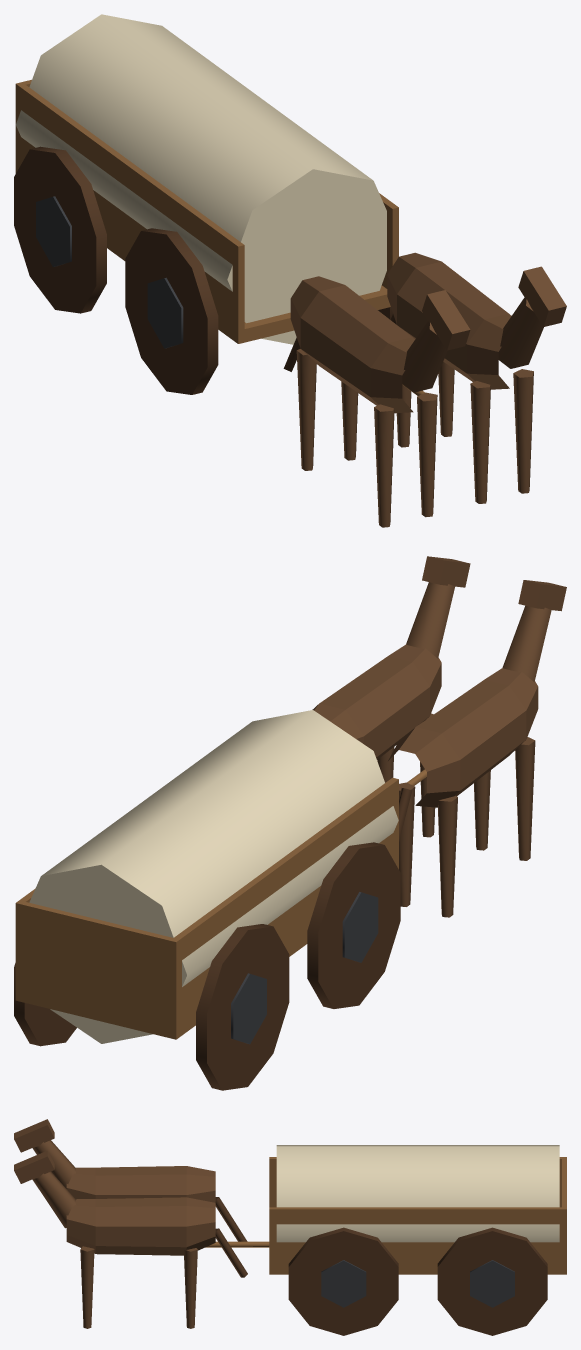
The model's file is veh_ground_wagon_a03.glb.
3 renders of one model, top to bottom at view 1: azimuth 30°, elevation 25°; view 2: azimuth 150°, elevation 25°; view 3: azimuth 270°, elevation 25°, orthographic. The views are drawn at different scales.
Parts seen in each view (by area): view 1: body, animal_0, animal_1, wheel_2, wheel_0; view 2: body, animal_0, animal_1, wheel_0, wheel_2, wheel_1; view 3: body, animal_1, wheel_1, wheel_3, animal_0.
Part boxes in pixels (<box>): body: <box>15,14,424,395</box>; animal_0: <box>283,276,470,527</box>; animal_1: <box>387,252,566,503</box>; wheel_2: <box>125,228,218,394</box>; wheel_0: <box>14,146,106,313</box>; body: <box>15,710,426,1043</box>; animal_0: <box>388,580,566,917</box>; animal_1: <box>312,556,470,837</box>; wheel_0: <box>196,924,289,1090</box>; wheel_2: <box>307,842,400,1008</box>; wheel_1: <box>14,963,76,1046</box>; body: <box>205,1145,566,1274</box>; animal_1: <box>14,1150,247,1328</box>; wheel_1: <box>437,1227,547,1335</box>; wheel_3: <box>288,1227,398,1335</box>; animal_0: <box>14,1119,247,1241</box>.
Size of what is drawn, in the model's own units: 1.84 by 2.23 by 6.69.
